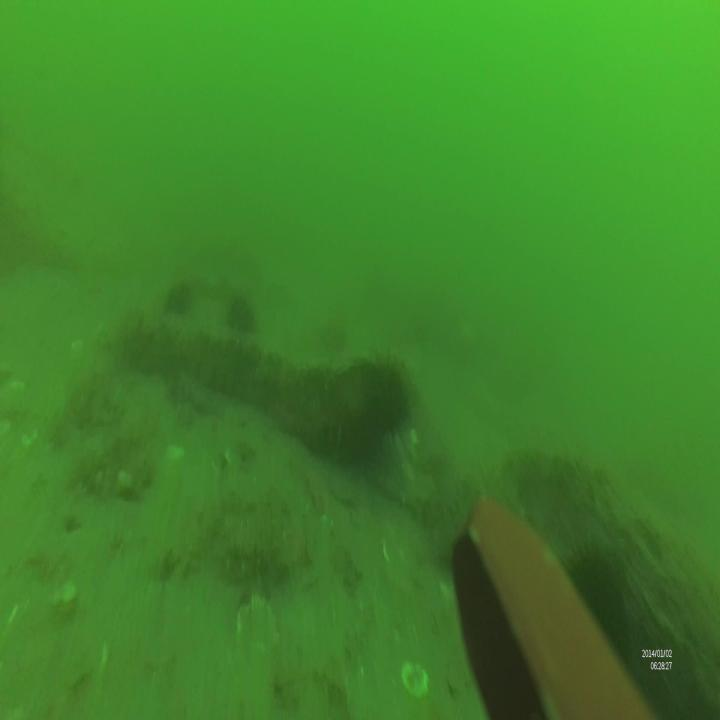echinus: (360, 352, 417, 446), (224, 292, 257, 335), (166, 286, 187, 320)
